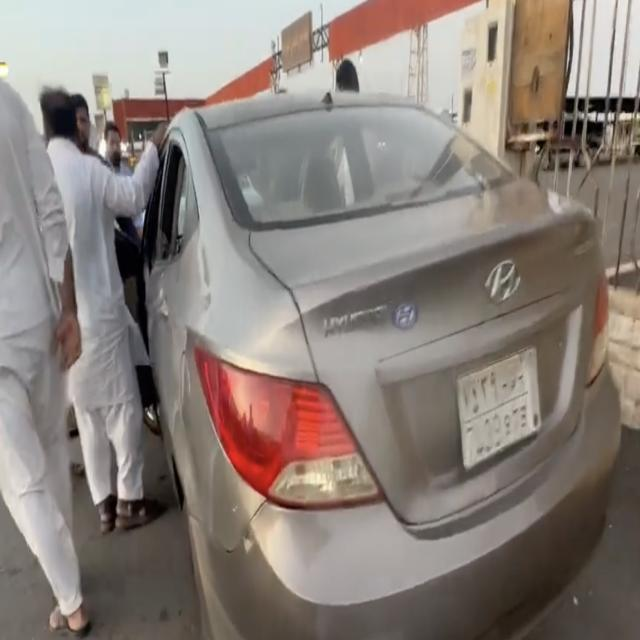license_plate: (454, 339, 547, 479)
